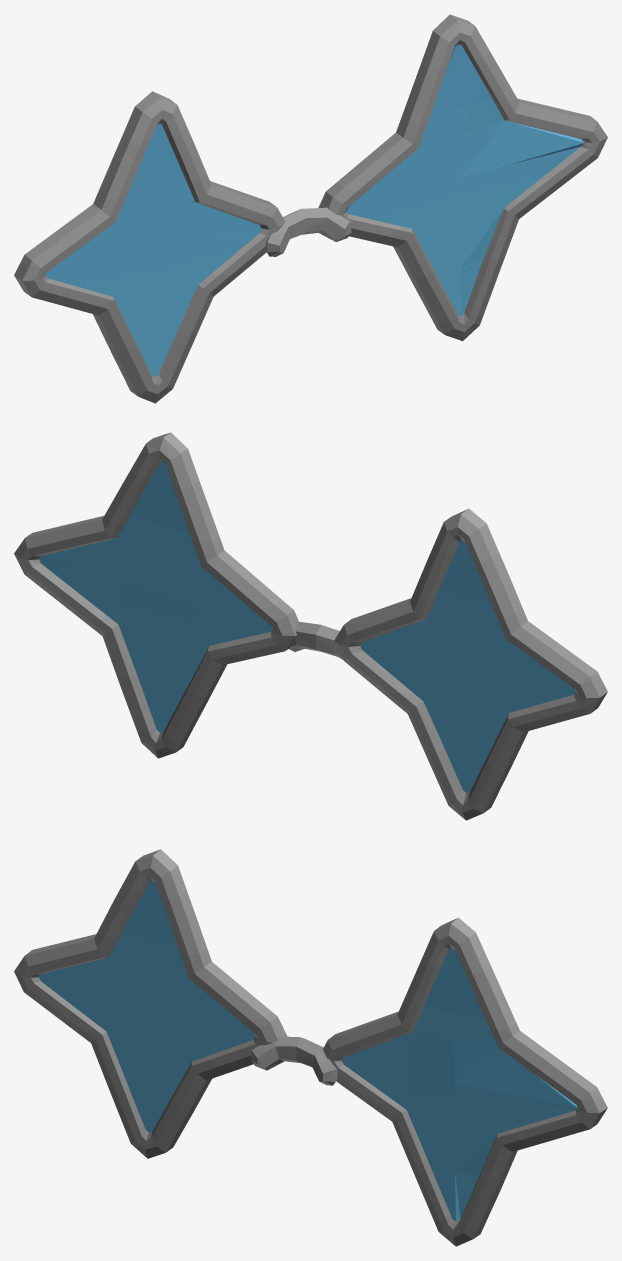
Rendered from CharSkyKid_Horn_StarSunglasses.glb.
3 views of the same model, one above another, from view 1: azimuth 30°, elevation 25°; view 2: azimuth 150°, elevation 25°; view 3: azimuth 330°, elevation 25° (orthographic).
Visible parts, largest first — view 1: CharSkyKid_Horn_StarSunglasses; view 2: CharSkyKid_Horn_StarSunglasses; view 3: CharSkyKid_Horn_StarSunglasses.
Boxes of the visible parts, x1=… form: CharSkyKid_Horn_StarSunglasses: x1=14, y1=14, x2=607, y2=403; CharSkyKid_Horn_StarSunglasses: x1=14, y1=432, x2=607, y2=820; CharSkyKid_Horn_StarSunglasses: x1=14, y1=849, x2=607, y2=1246.
Bounding box in the file's own units: 2.25 × 1.18 × 0.1275.
1 material, 1 textured.
